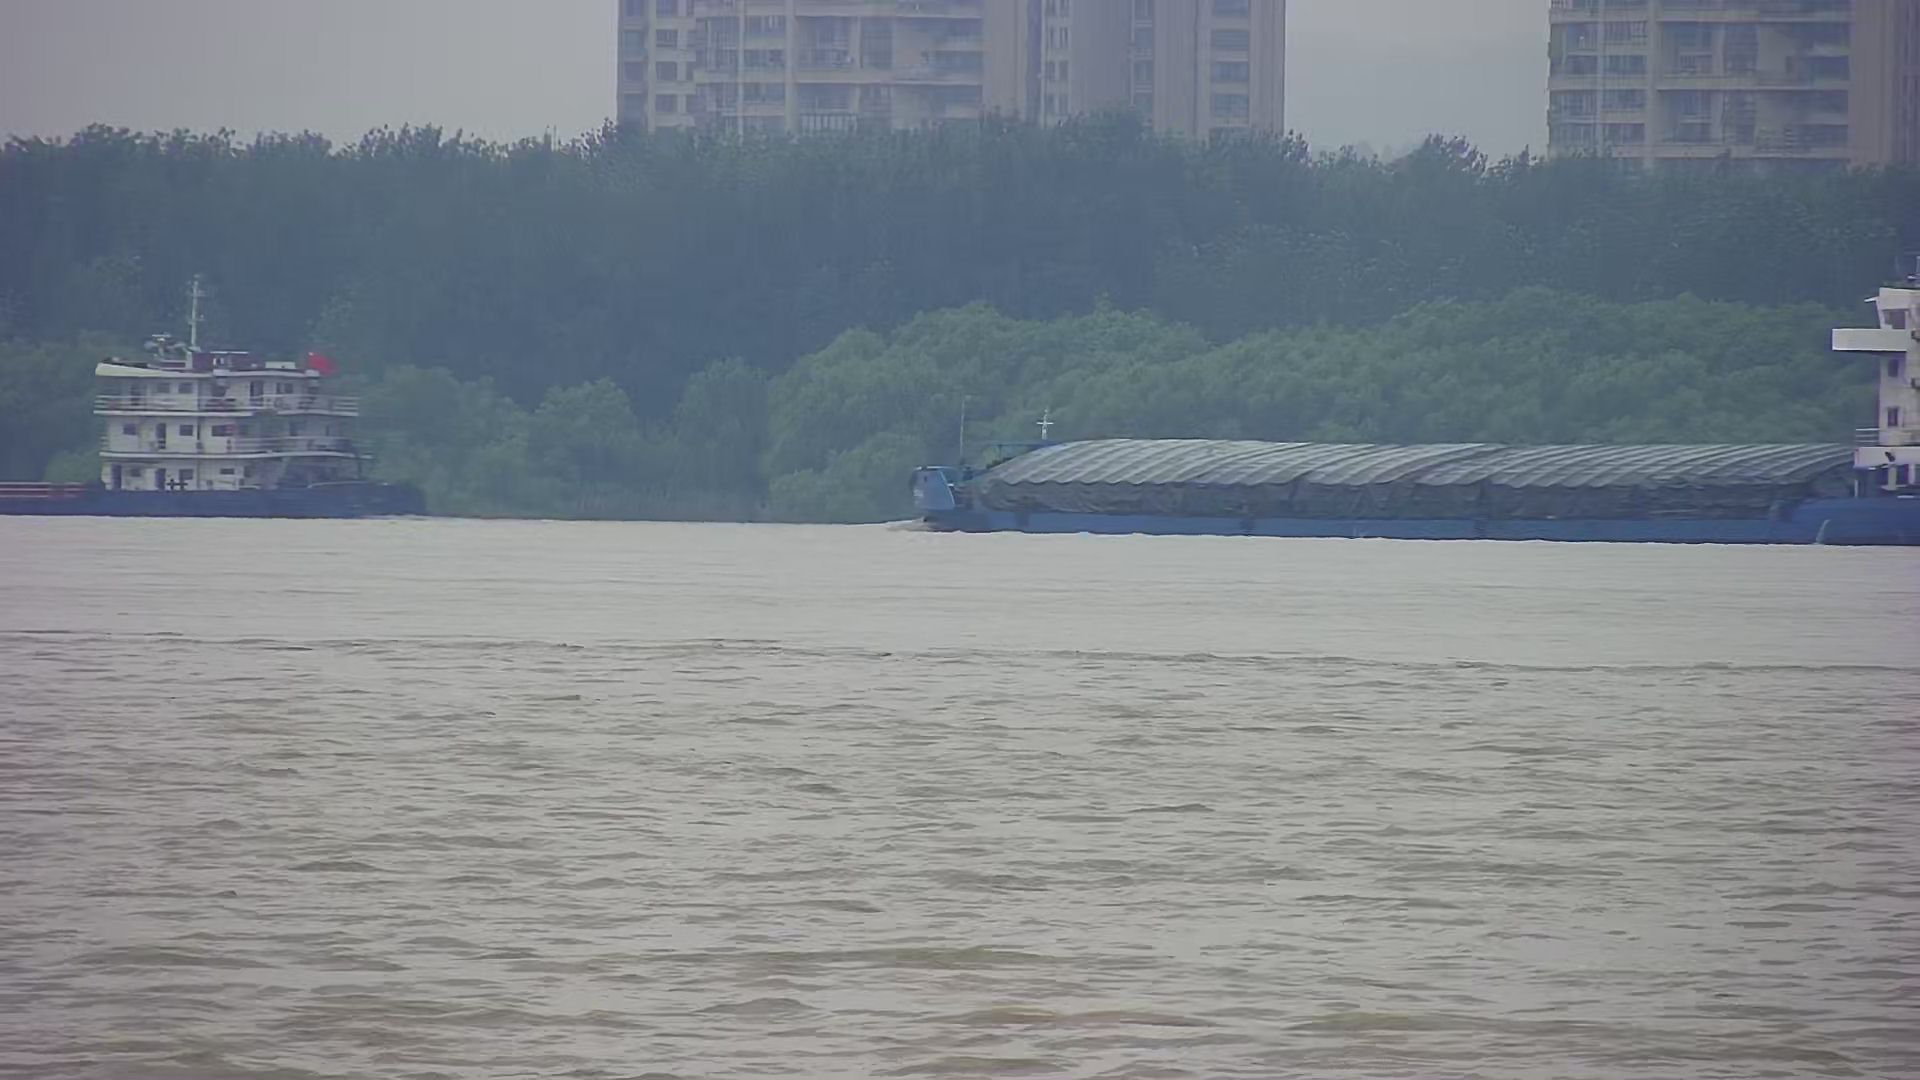ship: (894, 251, 1920, 553), (1, 318, 430, 535)
